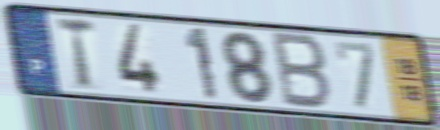1: (183, 25, 221, 103)
4: (115, 21, 165, 97)
7: (332, 39, 378, 113)
8: (220, 29, 278, 106)
B: (270, 29, 334, 113)
T: (54, 15, 99, 93)
